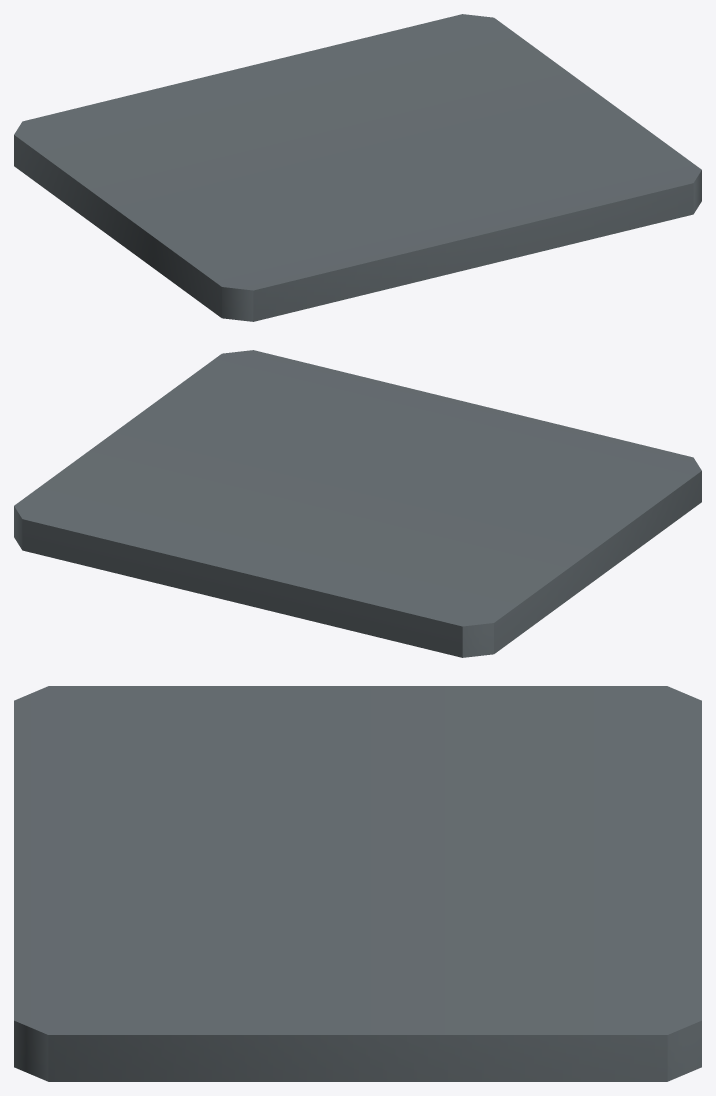
File: Sockel_1.glb
The picture shows the model from 3 angles, top to bottom: view 1: azimuth 30°, elevation 25°; view 2: azimuth 150°, elevation 25°; view 3: azimuth 270°, elevation 25°; orthographic projection. The views are drawn at different scales.
Visible parts, largest first — view 1: Sockel.001; view 2: Sockel.001; view 3: Sockel.001.
Part boxes in pixels (bbox=[...]): Sockel.001: bbox=[14, 14, 701, 321]; Sockel.001: bbox=[14, 350, 701, 657]; Sockel.001: bbox=[14, 686, 701, 1081].
Bounding box in the file's own units: 0.84 × 0.0525 × 0.7.
Materials: 1 (1 with a texture image).
